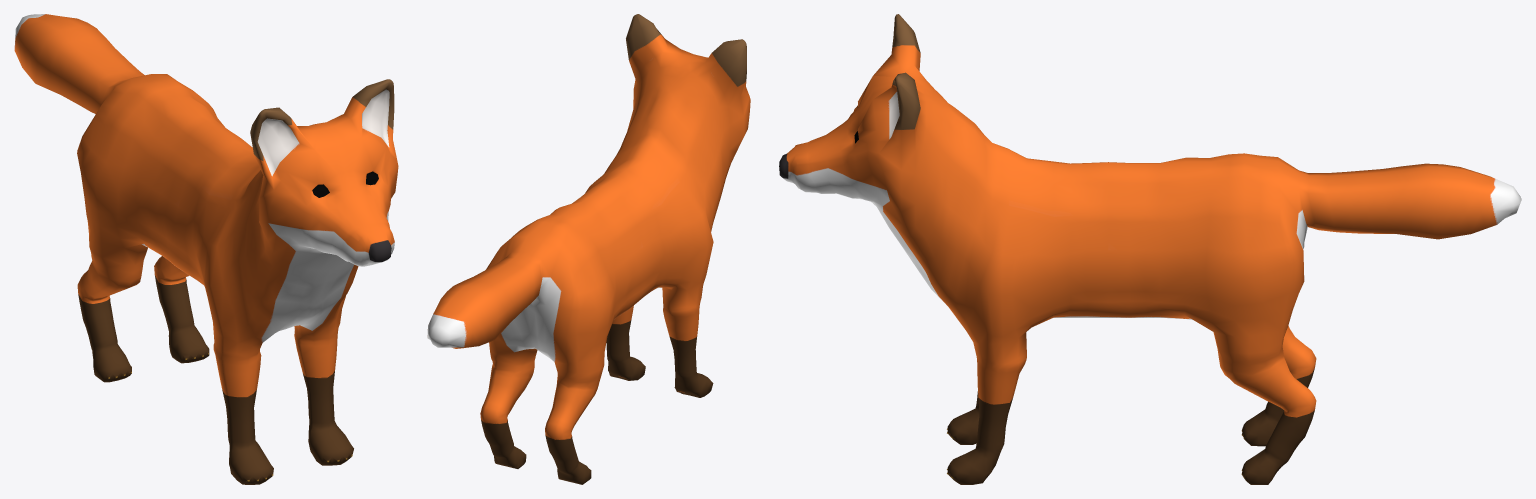
File: Fox.fbx
The picture shows the model from 3 angles, left to right: view 1: azimuth 30°, elevation 25°; view 2: azimuth 150°, elevation 25°; view 3: azimuth 270°, elevation 25°; orthographic projection. The views are drawn at different scales.
Visible parts, largest first — view 1: Fox002; view 2: Fox002; view 3: Fox002.
Boxes of the visible parts, <box> form: Fox002: <box>14,14,398,484</box>; Fox002: <box>427,14,750,484</box>; Fox002: <box>779,14,1521,484</box>.
Bounding box in the file's own units: 8.51 × 22.77 × 37.06.
